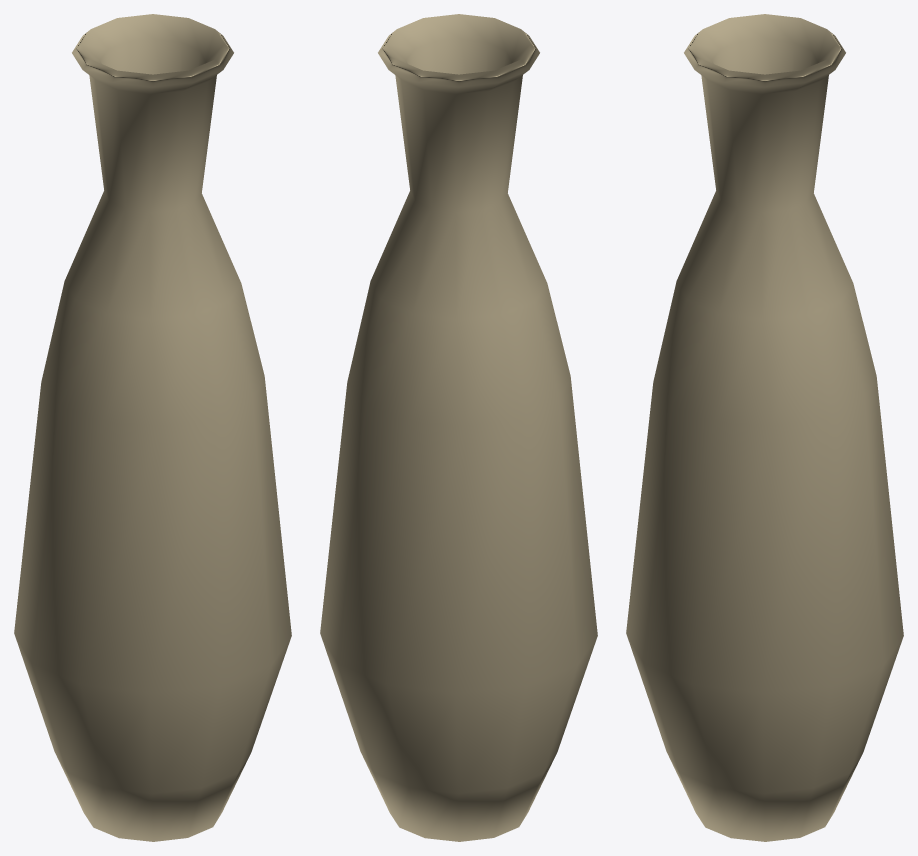
Rendered from Vase3.fbx.
3 views of the same model, side by side, from view 1: azimuth 30°, elevation 25°; view 2: azimuth 150°, elevation 25°; view 3: azimuth 270°, elevation 25° (orthographic).
Parts seen in each view (by area): view 1: vase.113_vase.1341; view 2: vase.113_vase.1341; view 3: vase.113_vase.1341.
Part boxes in pixels (bbox=[...]): vase.113_vase.1341: bbox=[14, 14, 291, 841]; vase.113_vase.1341: bbox=[320, 14, 597, 841]; vase.113_vase.1341: bbox=[626, 14, 903, 841].
Size of the model in its own units: 1.77 by 5.42 by 1.77.
